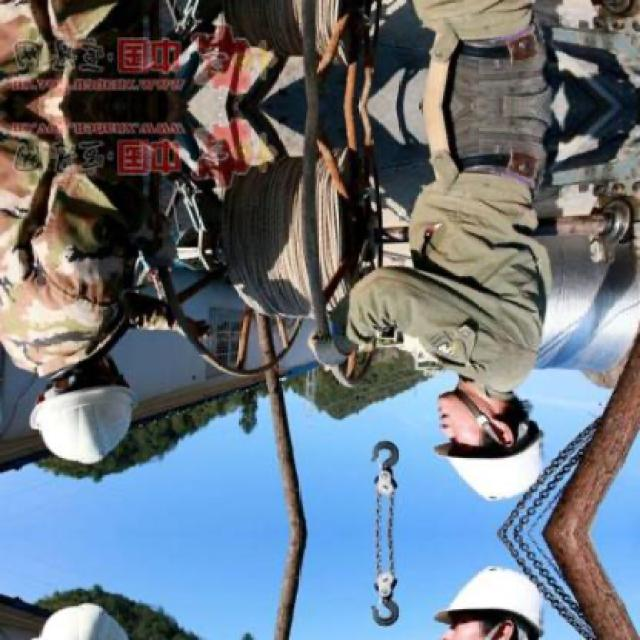con casco: (394, 350, 586, 530), (23, 350, 161, 493)
